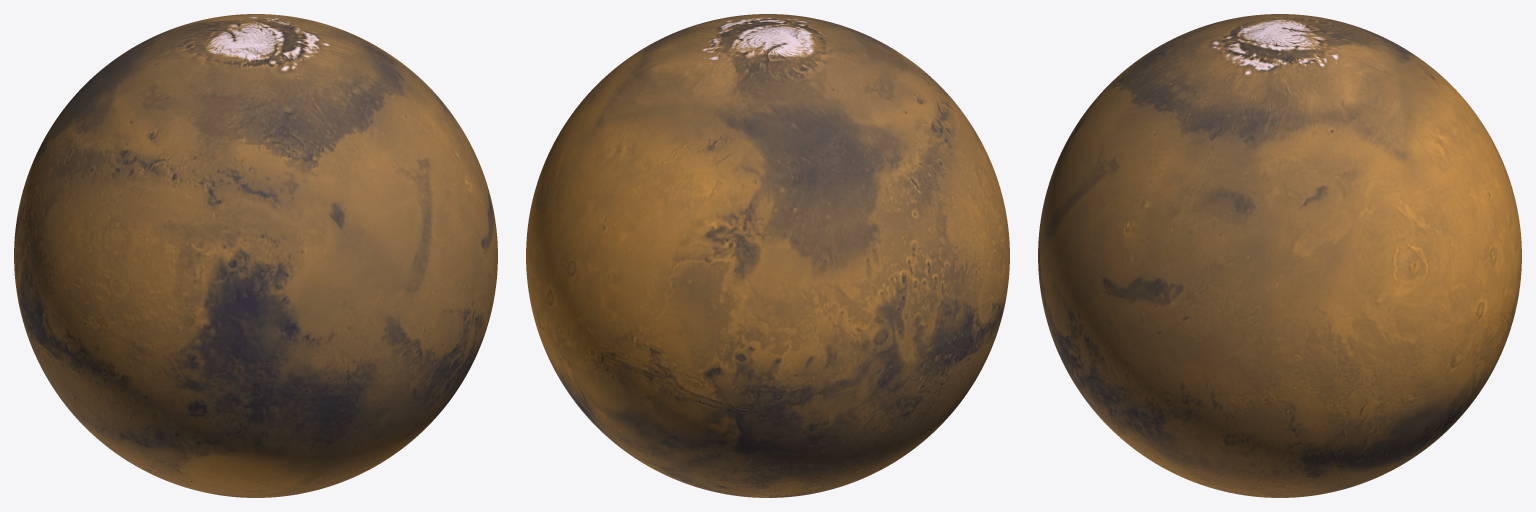
File: mdl_mars.FBX
The picture shows the model from 3 angles, left to right: view 1: azimuth 30°, elevation 25°; view 2: azimuth 150°, elevation 25°; view 3: azimuth 270°, elevation 25°; orthographic projection.
Visible parts, largest first — view 1: mdl_mars; view 2: mdl_mars; view 3: mdl_mars.
Part boxes in pixels (x1,y1,x2,y2): mdl_mars: [14, 14, 497, 497]; mdl_mars: [526, 14, 1009, 497]; mdl_mars: [1038, 14, 1521, 497].
Bounding box in the file's own units: 129 × 129 × 129.
